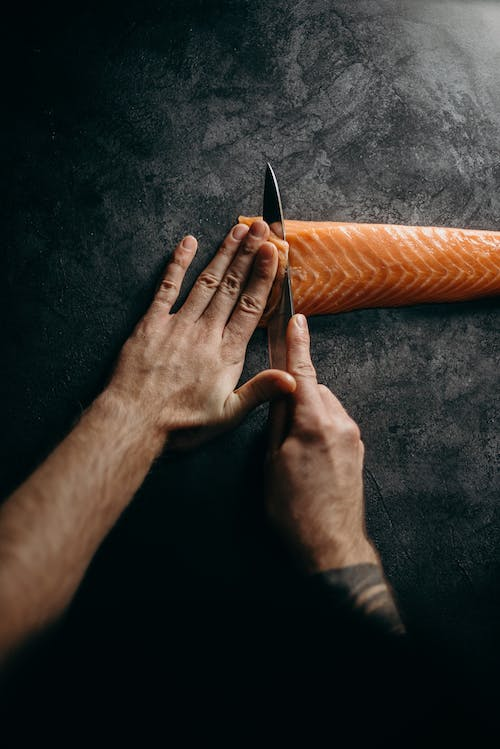knife: (257, 155, 292, 370)
